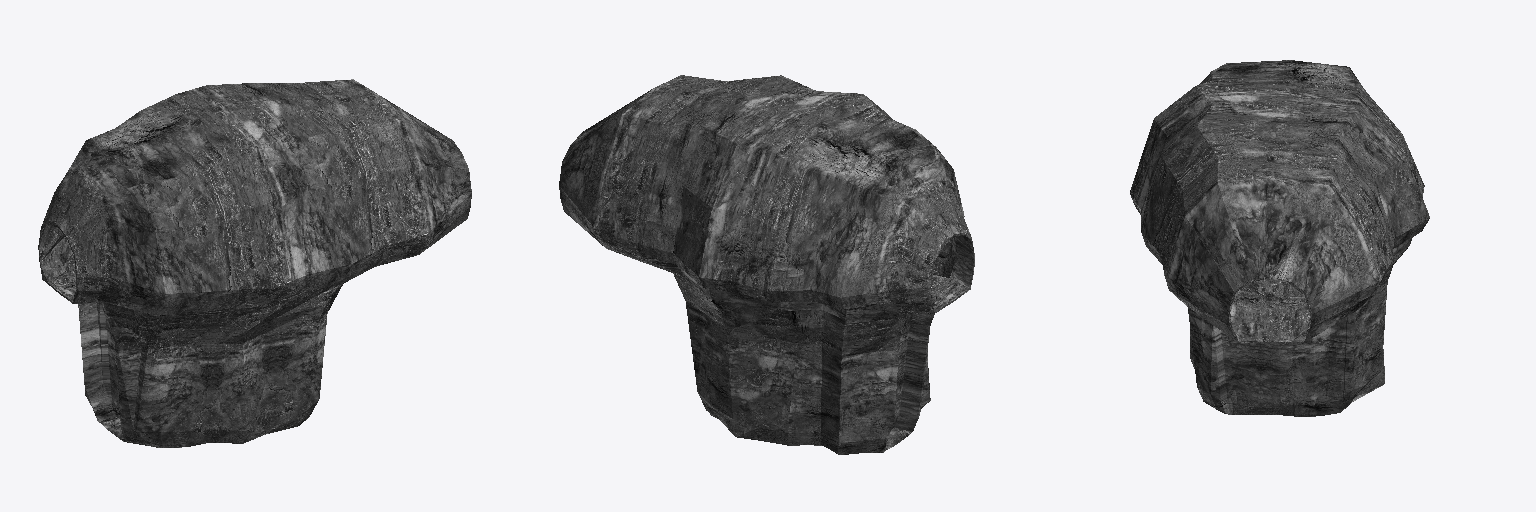
The picture shows the model from 3 angles: view 1: azimuth 30°, elevation 25°; view 2: azimuth 150°, elevation 25°; view 3: azimuth 270°, elevation 25°; orthographic projection.
Visible parts, largest first — view 1: cassum; view 2: cassum; view 3: cassum.
Part boxes in pixels (left/top/right/bottom): cassum: left=38, top=79, right=471, bottom=447; cassum: left=559, top=75, right=974, bottom=454; cassum: left=1130, top=60, right=1429, bottom=416.
Bounding box in the file's own units: 541 × 401 × 366.
Materials: 1 (1 with a texture image).